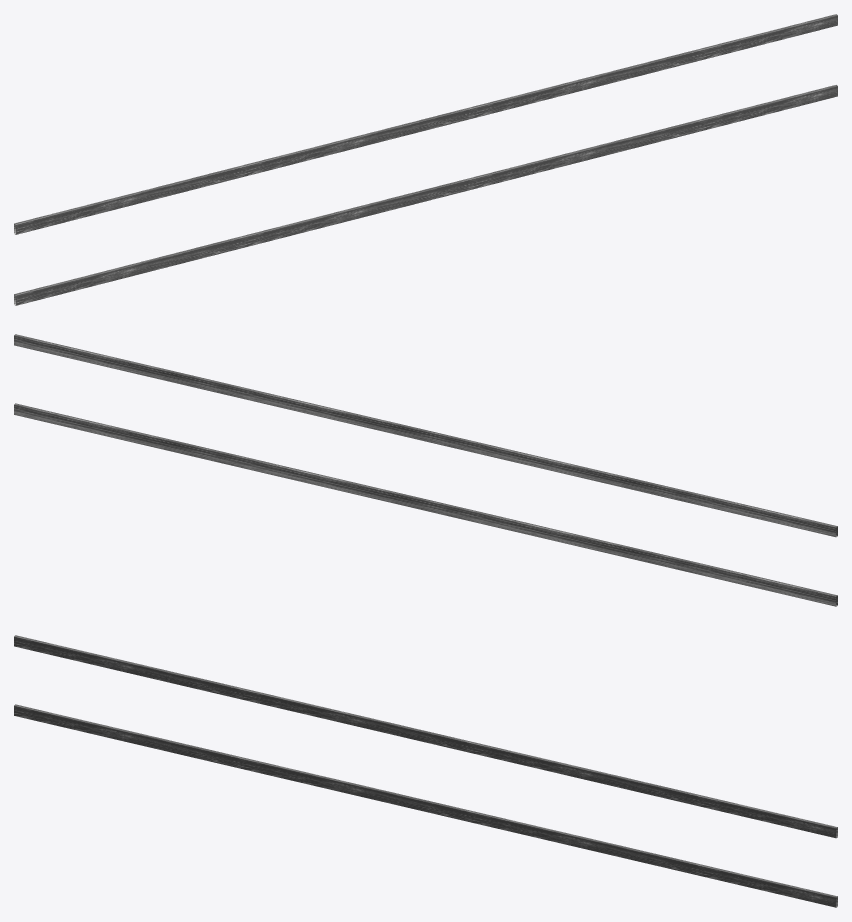
Rendered from SM_Fence_E3_Splines_44.fbx.
The picture shows the model from 3 angles, top to bottom: view 1: azimuth 30°, elevation 25°; view 2: azimuth 150°, elevation 25°; view 3: azimuth 330°, elevation 25°; orthographic projection. The views are drawn at different scales.
Visible parts, largest first — view 1: SM_Fence_E3_Splines_44; view 2: SM_Fence_E3_Splines_44; view 3: SM_Fence_E3_Splines_44.
Boxes of the visible parts, x1,y1,x2,y2 form: SM_Fence_E3_Splines_44: [14, 14, 837, 305]; SM_Fence_E3_Splines_44: [14, 334, 837, 606]; SM_Fence_E3_Splines_44: [14, 635, 837, 907].
Bounding box in the file's own units: 659 × 15.05 × 61.66.
Materials: 1 (1 with a texture image).
